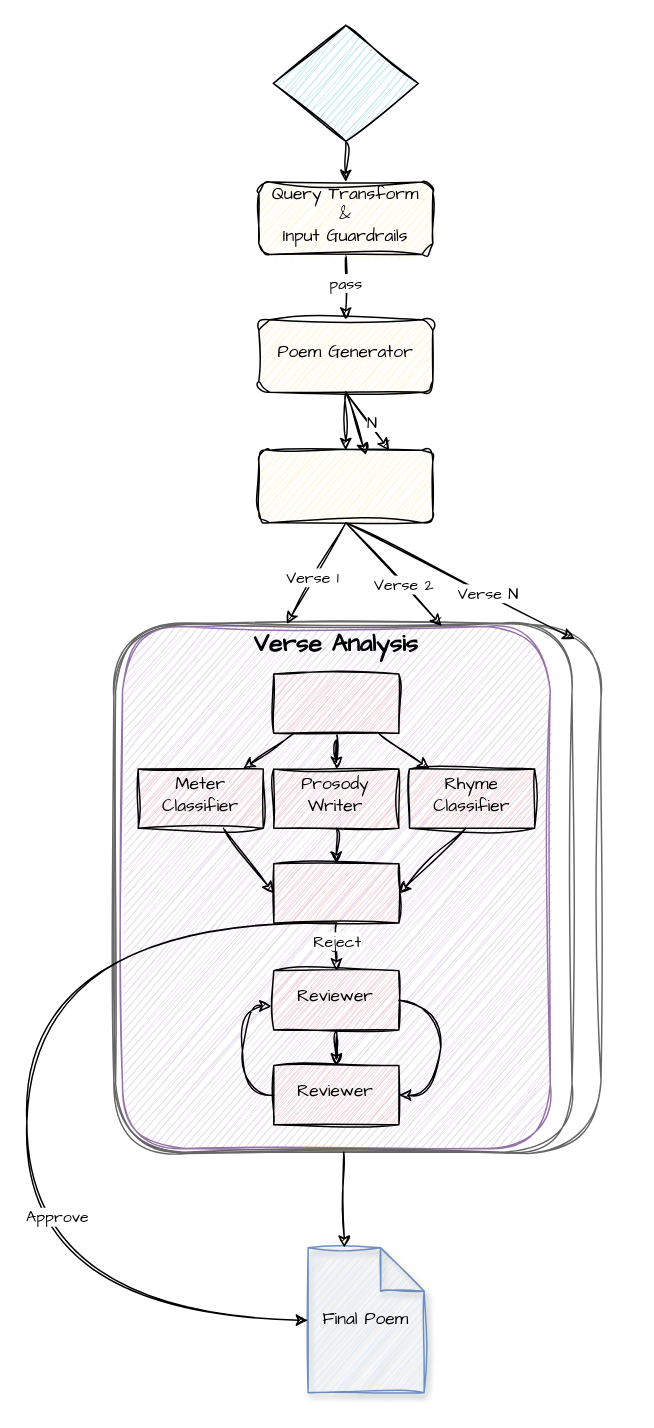
This 654x1428 diagram has some shape labels left out. The centre of each missing label's shape, as x and y in pixels:
"Discretize" goes at (335,703).
"Poem Validator" goes at (345,486).
"Task" goes at (345,82).
"Validate" goes at (335,892).
